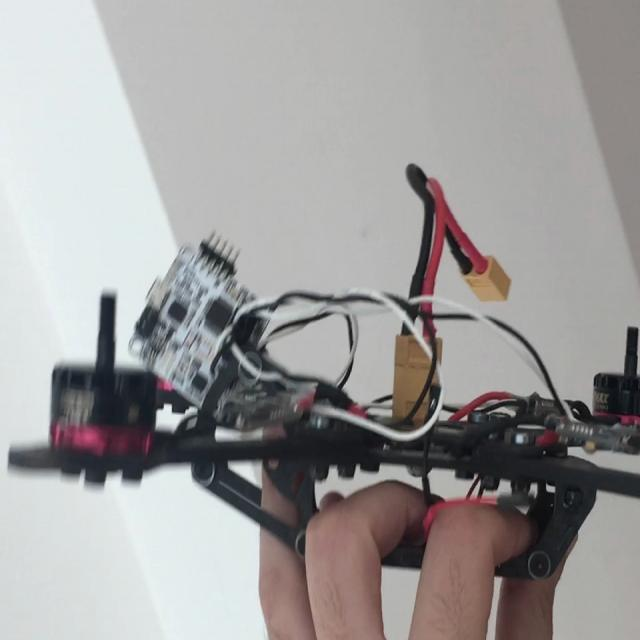drone: (0, 215, 640, 636)
